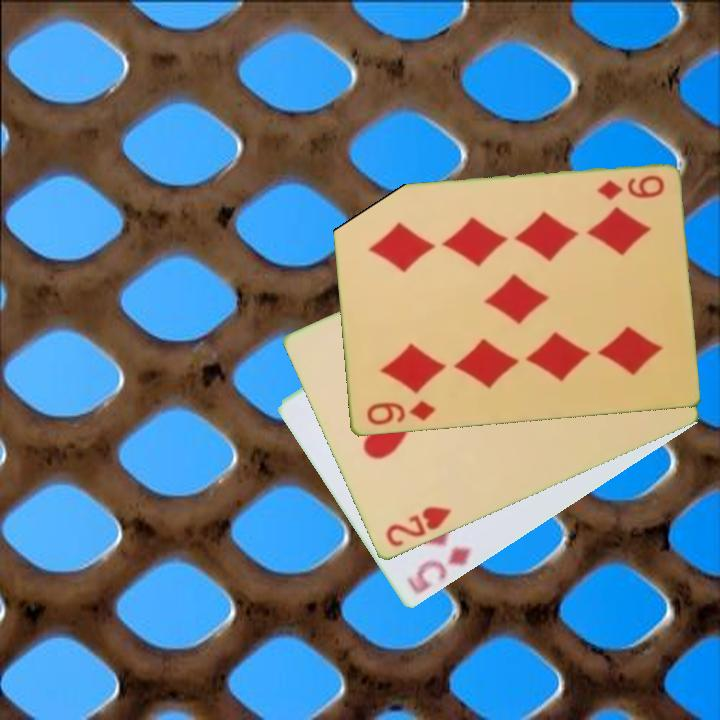2h: (382, 503, 455, 551)
5d: (403, 543, 474, 598)
9d: (362, 397, 438, 429), (593, 172, 667, 204)
